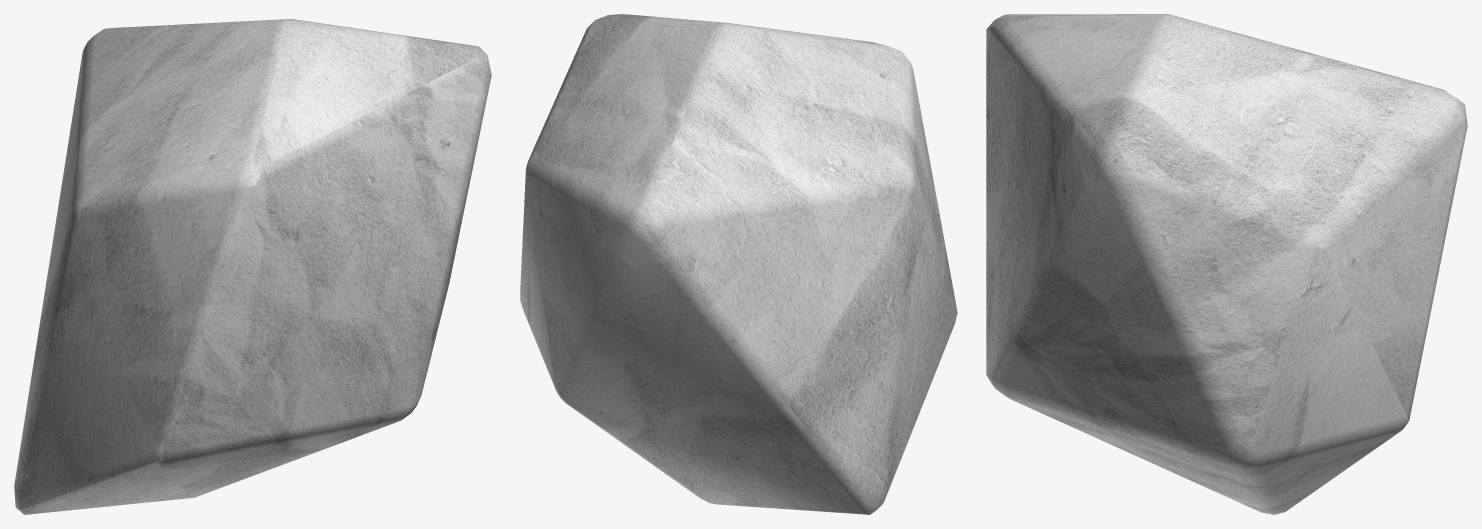
File: TOMB_DECOR_ROCKS.obj
The picture shows the model from 3 angles, left to right: view 1: azimuth 30°, elevation 25°; view 2: azimuth 150°, elevation 25°; view 3: azimuth 270°, elevation 25°; orthographic projection. The views are drawn at different scales.
Parts seen in each view (by area): view 1: TOMB_DECOR_ROCKS.004; view 2: TOMB_DECOR_ROCKS.004; view 3: TOMB_DECOR_ROCKS.004.
Part boxes in pixels (x1=…): TOMB_DECOR_ROCKS.004: x1=14, y1=19, x2=491, y2=514; TOMB_DECOR_ROCKS.004: x1=520, y1=14, x2=957, y2=514; TOMB_DECOR_ROCKS.004: x1=986, y1=14, x2=1467, y2=514.
Size of the model in its own units: 0.5575 by 0.6336 by 0.534.
